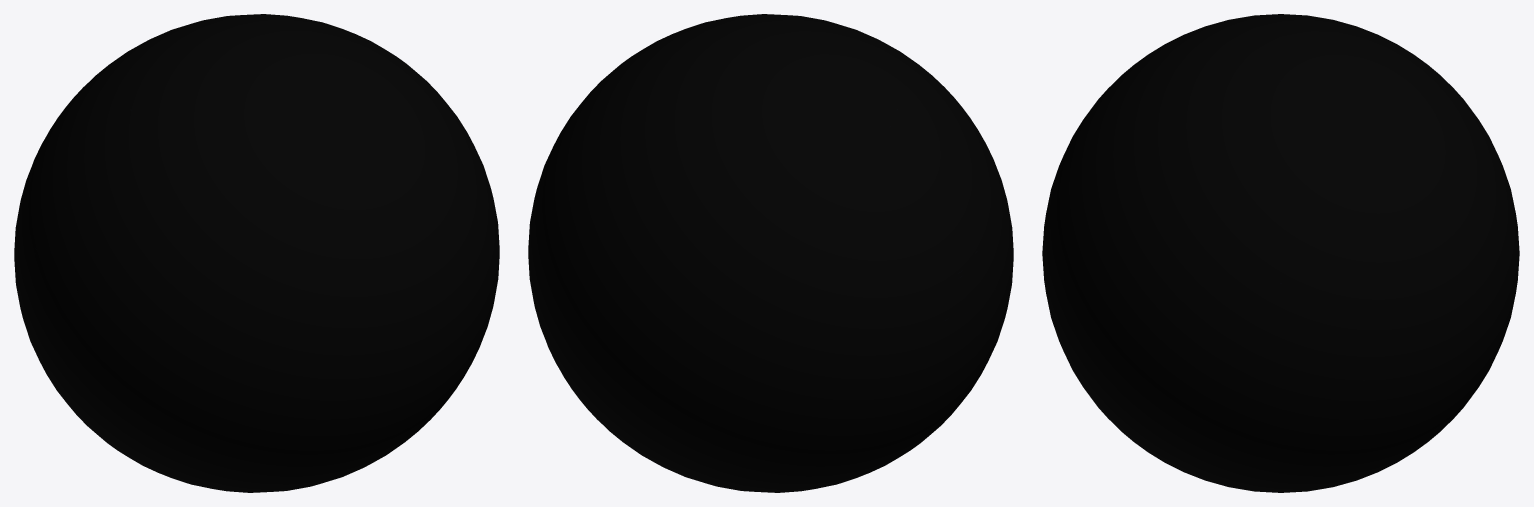
Rendered from ball.glb.
The picture shows the model from 3 angles, left to right: view 1: azimuth 30°, elevation 25°; view 2: azimuth 150°, elevation 25°; view 3: azimuth 270°, elevation 25°; orthographic projection.
Parts seen in each view (by area): view 1: mesh_id27; view 2: mesh_id27; view 3: mesh_id27.
Part boxes in pixels (box(x1,y1,x2,y2)): mesh_id27: box(14, 14, 499, 492); mesh_id27: box(528, 14, 1013, 492); mesh_id27: box(1042, 14, 1519, 492).
Size of the model in its own units: 0.3052 by 0.2994 by 0.2994.
Materials: 1 (1 with a texture image).
